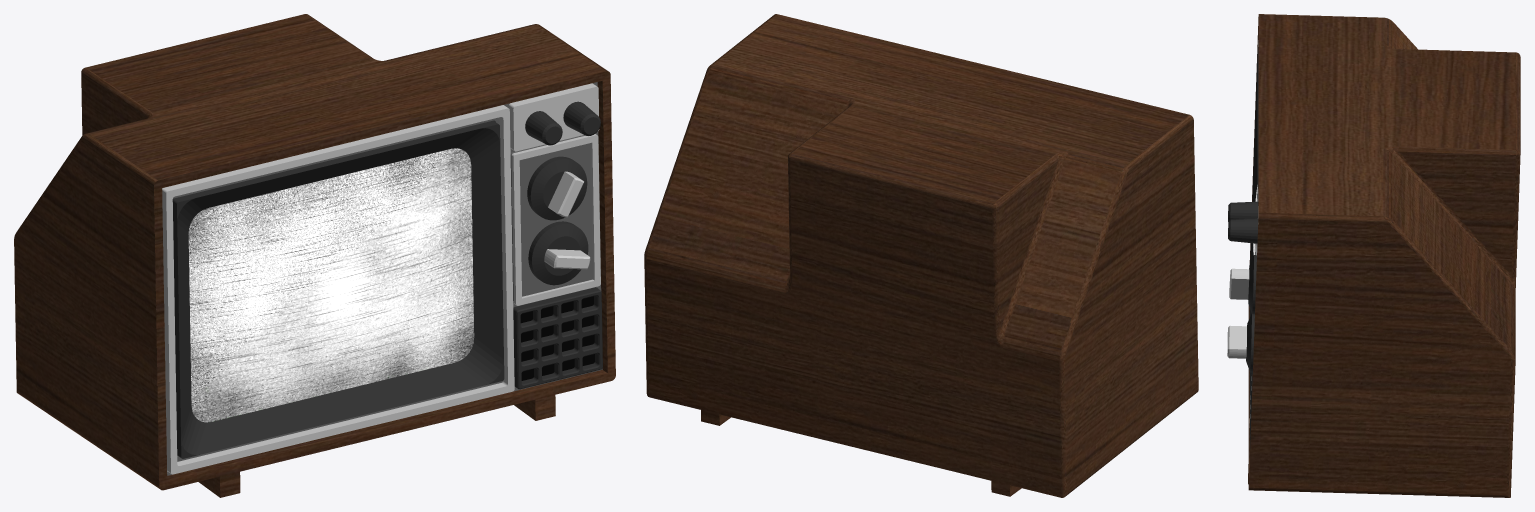
Rendered from gustavorezende-tv-3865.glb.
The picture shows the model from 3 angles, left to right: view 1: azimuth 30°, elevation 25°; view 2: azimuth 150°, elevation 25°; view 3: azimuth 270°, elevation 25°; orthographic projection. The views are drawn at different scales.
Parts seen in each view (by area): view 1: Body, Screen, Frame 01, Frame 02, Speaker, Main panel, Buttons frame, Button 04, Button 03, Buttons panel, Button 02, Button 01; view 2: Body; view 3: Body, Button 04, Button 03, Frame 01, Button 02, Button 01.
Part boxes in pixels (x1=…): Body: x1=14, y1=14, x2=615, y2=497; Screen: x1=188, y1=148, x2=474, y2=422; Frame 01: x1=172, y1=120, x2=504, y2=458; Frame 02: x1=162, y1=105, x2=514, y2=474; Speaker: x1=513, y1=287, x2=602, y2=389; Main panel: x1=162, y1=82, x2=602, y2=475; Buttons frame: x1=511, y1=134, x2=600, y2=305; Button 04: x1=528, y1=221, x2=590, y2=285; Button 03: x1=527, y1=156, x2=587, y2=220; Buttons panel: x1=508, y1=83, x2=599, y2=151; Button 02: x1=563, y1=101, x2=600, y2=135; Button 01: x1=525, y1=111, x2=562, y2=145; Body: x1=644, y1=14, x2=1198, y2=497; Body: x1=1248, y1=14, x2=1520, y2=497; Button 04: x1=1227, y1=313, x2=1254, y2=372; Button 03: x1=1229, y1=255, x2=1256, y2=314; Frame 01: x1=1249, y1=47, x2=1258, y2=417; Button 02: x1=1228, y1=218, x2=1258, y2=243; Button 01: x1=1228, y1=201, x2=1258, y2=221.
Bounding box in the file's own units: 0.1131 × 0.0774 × 0.0693.
6 materials, 2 textured.
